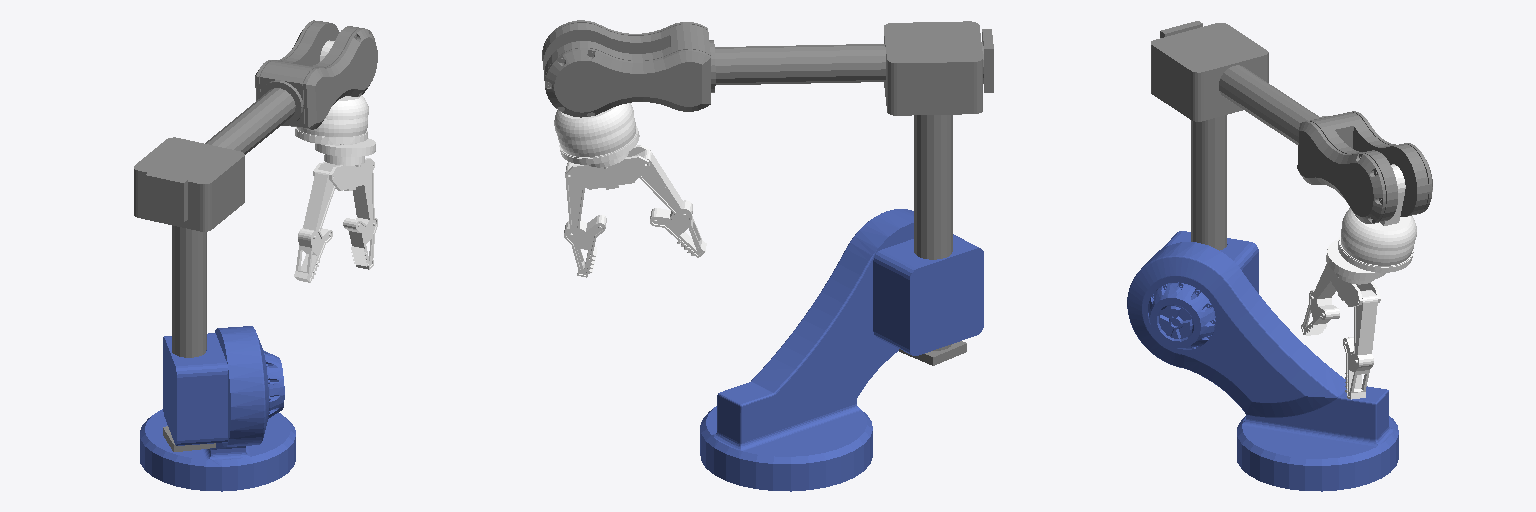
The robot description file, URDF, robot "RPP":
<?xml version="1.0" encoding="utf-8"?>
<!-- This URDF was automatically created by SolidWorks to URDF Exporter! Originally created by [author] ([email redacted]) 
     Commit Version: 1.6.0-4-g7f85cfe  Build Version: 1.6.7995.38578
     For more information, please see http://wiki.ros.org/sw_urdf_exporter -->
<robot
  name="RPP">
  <link
    name="base_link">
    <inertial>
      <origin
        xyz="0.10131 0.16693 0.3385"
        rpy="0.0 0.0 0.0" />
      <mass
        value="5.7724" />
      <inertia
        ixx="0.036499"
        ixy="-4.1268E-05"
        ixz="-0.00079967"
        iyy="0.066642"
        iyz="4.1268E-05"
        izz="0.036499" />
    </inertial>
    <visual>
      <origin
        xyz="0.0 0.0 0.0"
        rpy="0.0 0.0 0.0" />
      <geometry>
        <mesh
          filename="package://RPP/meshes/base_link.STL" />
      </geometry>
      <material
        name="">
        <color
          rgba="0.58824 0.58824 0.63137 1" />
      </material>
    </visual>
    <collision>
      <origin
        xyz="0.0 0.0 0.0"
        rpy="0.0 0.0 0.0" />
      <geometry>
        <mesh
          filename="package://RPP/meshes/base_link.STL" />
      </geometry>
    </collision>
    <gazebo reference="base_link">
  <selfCollide>False</selfCollide>
</gazebo>
  </link>
  <link
    name="LINK1R">
    <inertial>
      <origin
        xyz="-0.073144 0.086256 -0.0058081"
        rpy="0.0 0.0 0.0" />
      <mass
        value="2.7936" />
      <inertia
        ixx="0.012503"
        ixy="0.0090795"
        ixz="0.00047591"
        iyy="0.016889"
        iyz="-0.00041669"
        izz="0.024643" />
    </inertial>
    <visual>
      <origin
        xyz="0.0 0.0 0.0"
        rpy="0.0 0.0 0.0" />
      <geometry>
        <mesh
          filename="package://RPP/meshes/LINK1R.STL" />
      </geometry>
      <material
        name="">
        <color
          rgba="0.38039 0.47843 0.78824 1" />
      </material>
    </visual>
    <collision>
      <origin
        xyz="0.0 0.0 0.0"
        rpy="0.0 0.0 0.0" />
      <geometry>
        <mesh
          filename="package://RPP/meshes/LINK1R.STL" />
      </geometry>
    </collision>
        <gazebo reference="LINK1R">
  <selfCollide>False</selfCollide>
</gazebo>
  </link>
  <joint
    name="LINK1R"
    type="revolute">
    <origin
      xyz="0.099882 -0.33993 0.22222"
      rpy="1.5708 0.0 1.2074" />
    <parent
      link="base_link" />
    <child
      link="LINK1R" />
    <axis
      xyz="0.0 1.0 0.0" />
    <limit
      lower="0.0"
      upper="4.712"
      effort="300.0"
      velocity="3.0" />
      <dynamics damping="0.7"/>
  </joint>
  <link
    name="LINK2P">
    <inertial>
      <origin
        xyz="-6.1062E-15 0.23201 -2.2829E-14"
        rpy="0.0 0.0 0.0" />
      <mass
        value="0.85233" />
      <inertia
        ixx="0.0037084"
        ixy="1.095E-17"
        ixz="4.5845E-05"
        iyy="0.00094122"
        iyz="3.9911E-18"
        izz="0.0036992" />
    </inertial>
    <visual>
      <origin
        xyz="0.0 0.0 0.0"
        rpy="0.0 0.0 0.0" />
      <geometry>
        <mesh
          filename="package://RPP/meshes/LINK2P.STL" />
      </geometry>
      <material
        name="">
        <color
          rgba="0.6 0.6 0.6 1.0" />
      </material>
    </visual>
    <collision>
      <origin
        xyz="0.0 0.0 0.0"
        rpy="0.0 0.0 0.0" />
      <geometry>
        <mesh
          filename="package://RPP/meshes/LINK2P.STL" />
      </geometry>
    </collision>
            <gazebo reference="LINK2P">
  <selfCollide>False</selfCollide>
</gazebo>
  </link>
  <joint
    name="LINK2P"
    type="prismatic">
    <origin
      xyz="-0.15 0.095 -0.057599"
      rpy="0.0 0.098579 0.0" />
    <parent
      link="LINK1R" />
    <child
      link="LINK2P" />
    <axis
      xyz="0.0 1.0 0.0" />
    <limit
      lower="0.0"
      upper="0.15"
      effort="250.0"
      velocity="0.05" />
      <dynamics damping="0.7"/>
  </joint>
  <link
    name="LINK3P">
    <inertial>
      <origin
        xyz="6.7574E-12 0.22103 -4.9665E-12"
        rpy="0.0 0.0 0.0" />
      <mass
        value="0.9893" />
      <inertia
        ixx="0.0049623"
        ixy="-3.5672E-13"
        ixz="-8.8523E-06"
        iyy="0.0006547"
        iyz="2.1748E-13"
        izz="0.0051263" />
    </inertial>
    <visual>
      <origin
        xyz="0.0 0.0 0.0"
        rpy="0.0 0.0 0.0" />
      <geometry>
        <mesh
          filename="package://RPP/meshes/LINK3P.STL" />
      </geometry>
      <material
        name="">
        <color
          rgba="0.6 0.6 0.6 1.0" />
      </material>
    </visual>
    <collision>
      <origin
        xyz="0.0 0.0 0.0"
        rpy="0.0 0.0 0.0" />
      <geometry>
        <mesh
          filename="package://RPP/meshes/LINK3P.STL" />
      </geometry>
    </collision>
            <gazebo reference="LINK3P">
  <selfCollide>False</selfCollide>
</gazebo>
  </link>
  <joint
    name="LINK3P"
    type="prismatic">
    <origin
      xyz="0.0 0.3226 0.0"
      rpy="1.5708 0.83554 0.0" />
    <parent
      link="LINK2P" />
    <child
      link="LINK3P" />
    <axis
      xyz="0.0 1.0 0.0" />
    <limit
      lower="0.0"
      upper="0.15"
      effort="250.0"
      velocity="0.05" />
      <dynamics damping="0.7"/>
  </joint>
  <link
    name="LINK4R">
    <inertial>
      <origin
        xyz="-1.1546E-14 -0.01 0.059477"
        rpy="0.0 0.0 0.0" />
      <mass
        value="0.31757" />
      <inertia
        ixx="0.00032932"
        ixy="0.0"
        ixz="3.422E-19"
        iyy="0.00032643"
        iyz="4.3876E-19"
        izz="0.00022192" />
    </inertial>
    <visual>
      <origin
        xyz="0.0 0.0 0.0"
        rpy="0.0 0.0 0.0" />
      <geometry>
        <mesh
          filename="package://RPP/meshes/LINK4R.STL" />
      </geometry>
      <material
        name="">
        <color
          rgba="1.0 1.0 1.0 1.0" />
      </material>
    </visual>
    <collision>
      <origin
        xyz="0.0 0.0 0.0"
        rpy="0.0 0.0 0.0" />
      <geometry>
        <mesh
          filename="package://RPP/meshes/LINK4R.STL" />
      </geometry>
    </collision>
            <gazebo reference="LINK4R">
  <selfCollide>False</selfCollide>
</gazebo>
  </link>
  <joint
    name="LINK4R"
    type="revolute">
    <origin
      xyz="0.0001142 0.35623 -0.0021209"
      rpy="-0.21403 0.053795 3.1416" />
    <parent
      link="LINK3P" />
    <child
      link="LINK4R" />
    <axis
      xyz="1.0 0.0 0.0" />
    <limit
      lower="0.0"
      upper="3.5"
      effort="300.0"
      velocity="2.0" />
      <dynamics damping="0.7"/>
  </joint>
  <link
    name="LINK5R">
    <inertial>
      <origin
        xyz="0.026611 -0.01 1.0977E-14"
        rpy="0.0 0.0 0.0" />
      <mass
        value="0.076424" />
      <inertia
        ixx="4.0169E-05"
        ixy="2.1176E-21"
        ixz="1.08E-20"
        iyy="3.8067E-05"
        iyz="1.6094E-20"
        izz="3.2004E-05" />
    </inertial>
    <visual>
      <origin
        xyz="0.0 0.0 0.0"
        rpy="0.0 0.0 0.0" />
      <geometry>
        <mesh
          filename="package://RPP/meshes/LINK5R.STL" />
      </geometry>
      <material
        name="">
        <color
          rgba="1.0 1.0 1.0 1.0" />
      </material>
    </visual>
    <collision>
      <origin
        xyz="0.0 0.0 0.0"
        rpy="0.0 0.0 0.0" />
      <geometry>
        <mesh
          filename="package://RPP/meshes/LINK5R.STL" />
      </geometry>
    </collision>
            <gazebo reference="LINK5R">
  <selfCollide>False</selfCollide>
</gazebo>
  </link>
  <joint
    name="LINK5R"
    type="revolute">
    <origin
      xyz="0.0099193 -0.0087325 0.083673"
      rpy="1.6979 -1.5708 0.0" />
    <parent
      link="LINK4R" />
    <child
      link="LINK5R" />
    <axis
      xyz="1.0 0.0 0.0" />
    <limit
      lower="0.0"
      upper="4.712"
      effort="300.0"
      velocity="2.0" />
      <dynamics damping="0.7"/>
  </joint>
  <link
    name="LINK6R">
    <inertial>
      <origin
        xyz="-1.4433E-14 -0.061143 -0.020951"
        rpy="0.0 0.0 0.0" />
      <mass
        value="0.038673" />
      <inertia
        ixx="4.863E-05"
        ixy="-1.5385E-17"
        ixz="-7.1557E-18"
        iyy="7.6525E-06"
        iyz="-1.2515E-05"
        izz="4.2818E-05" />
    </inertial>
    <visual>
      <origin
        xyz="0.0 0.0 0.0"
        rpy="0.0 0.0 0.0" />
      <geometry>
        <mesh
          filename="package://RPP/meshes/LINK6R.STL" />
      </geometry>
      <material
        name="">
        <color
          rgba="1.0 1.0 1.0 1.0" />
      </material>
    </visual>
    <collision>
      <origin
        xyz="0.0 0.0 0.0"
        rpy="0.0 0.0 0.0" />
      <geometry>
        <mesh
          filename="package://RPP/meshes/LINK6R.STL" />
      </geometry>
    </collision>
            <gazebo reference="LINK6R">
  <selfCollide>False</selfCollide>
</gazebo>
  </link>
  <joint
    name="LINK6R"
    type="revolute">
    <origin
      xyz="0.034835 -0.01 -0.035359"
      rpy="2.5651 0.0 -1.5708" />
    <parent
      link="LINK5R" />
    <child
      link="LINK6R" />
    <axis
      xyz="1 0.0 0.0" />
    <limit
      lower="0.0"
      upper="2.79"
      effort="300.0"
      velocity="2.0" />
      <dynamics damping="0.7"/>
  </joint>
  <link
    name="LINK7R">
    <inertial>
      <origin
        xyz="-2.7367E-14 -0.061143 -0.020951"
        rpy="0.0 0.0 0.0" />
      <mass
        value="0.038673" />
      <inertia
        ixx="4.863E-05"
        ixy="-9.5274E-18"
        ixz="-4.4639E-18"
        iyy="7.6525E-06"
        iyz="-1.2515E-05"
        izz="4.2818E-05" />
    </inertial>
    <visual>
      <origin
        xyz="0.0 0.0 0.0"
        rpy="0.0 0.0 0.0" />
      <geometry>
        <mesh
          filename="package://RPP/meshes/LINK7R.STL" />
      </geometry>
      <material
        name="">
        <color
          rgba="1.0 1.0 1.0 1.0" />
      </material>
    </visual>
    <collision>
      <origin
        xyz="0.0 0.0 0.0"
        rpy="0.0 0.0 0.0" />
      <geometry>
        <mesh
          filename="package://RPP/meshes/LINK7R.STL" />
      </geometry>
    </collision>
            <gazebo reference="LINK7R">
  <selfCollide>False</selfCollide>
</gazebo>
  </link>
  <joint
    name="LINK7R"
    type="revolute">
    <origin
      xyz="0.034034 -0.01 0.036855"
      rpy="-0.40661 0.0 1.5708" />
    <parent
      link="LINK5R" />
    <child
      link="LINK7R" />
    <axis
      xyz="1.0 0.0 0.0" />
    <limit
      lower="0.0"
      upper="2.79"
      effort="300.0"
      velocity="2.0" />
      <dynamics damping="0.7"/>
  </joint>
</robot>

--- Facts derived from the render (not from the file) ---
Views: 3 orthographic renders of the robot side by side, from view 1: azimuth 30°, elevation 25°; view 2: azimuth 150°, elevation 25°; view 3: azimuth 270°, elevation 25°.
Robot: RPP — 8 links, 7 joints (5 revolute, 2 prismatic); root link base_link; default pose: all joints at 0.
Visible links, largest first — view 1: LINK1R, LINK3P, LINK2P, LINK6R, LINK4R, LINK5R, LINK7R; view 2: LINK1R, LINK3P, LINK2P, LINK4R, LINK6R, LINK7R, LINK5R; view 3: LINK1R, LINK3P, LINK2P, LINK4R, LINK7R, LINK5R, LINK6R.
Boxes of the visible links, left/top/right/bottom form: LINK1R: left=140, top=326, right=295, bottom=491; LINK3P: left=145, top=20, right=377, bottom=222; LINK2P: left=134, top=137, right=244, bottom=451; LINK6R: left=294, top=169, right=335, bottom=282; LINK4R: left=295, top=40, right=368, bottom=145; LINK5R: left=313, top=138, right=375, bottom=190; LINK7R: left=343, top=172, right=377, bottom=269; LINK1R: left=700, top=209, right=983, bottom=491; LINK3P: left=542, top=20, right=993, bottom=117; LINK2P: left=884, top=21, right=982, bottom=365; LINK4R: left=554, top=103, right=639, bottom=164; LINK6R: left=635, top=150, right=706, bottom=257; LINK7R: left=564, top=162, right=606, bottom=277; LINK5R: left=566, top=145, right=650, bottom=189; LINK1R: left=1127, top=231, right=1398, bottom=491; LINK3P: left=1160, top=21, right=1432, bottom=223; LINK2P: left=1151, top=23, right=1268, bottom=250; LINK4R: left=1338, top=164, right=1416, bottom=272; LINK7R: left=1343, top=290, right=1377, bottom=399; LINK5R: left=1326, top=239, right=1385, bottom=306; LINK6R: left=1301, top=264, right=1339, bottom=335.
Bounding box of the posed robot: 0.4249 × 0.3383 × 0.4692 m (x, y, z).
7 mesh visuals loaded from 8 distinct referenced files (7 binary STL); not drawn: 1 (reference not matched to a file when rendering).